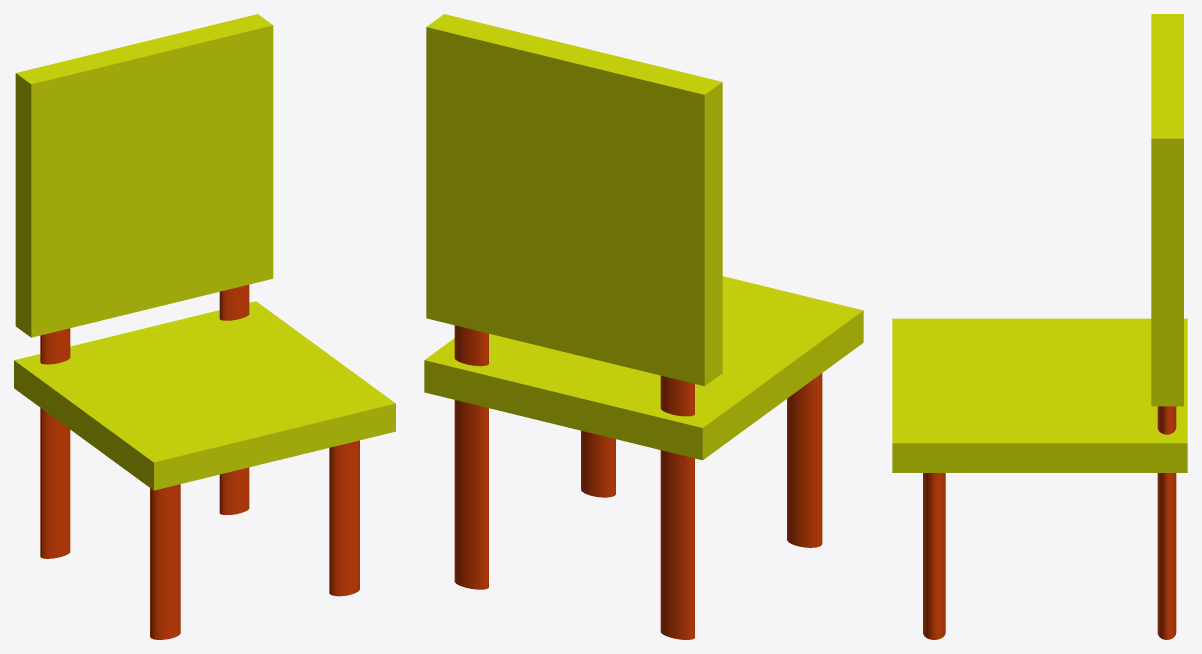
Rendered from silla.fbx.
3 renders of one model, left to right at view 1: azimuth 30°, elevation 25°; view 2: azimuth 150°, elevation 25°; view 3: azimuth 270°, elevation 25°, orthographic. The views are drawn at different scales.
Visible parts, largest first — view 1: Cube; view 2: Cube; view 3: Cube.
Boxes of the visible parts, left/top/right/bottom form: Cube: left=14, top=14, right=395, bottom=639; Cube: left=424, top=14, right=863, bottom=639; Cube: left=892, top=14, right=1187, bottom=639.
Bounding box in the file's own units: 0.9243 × 0.9243 × 1.76.
